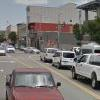Car: (6, 55, 65, 100)
